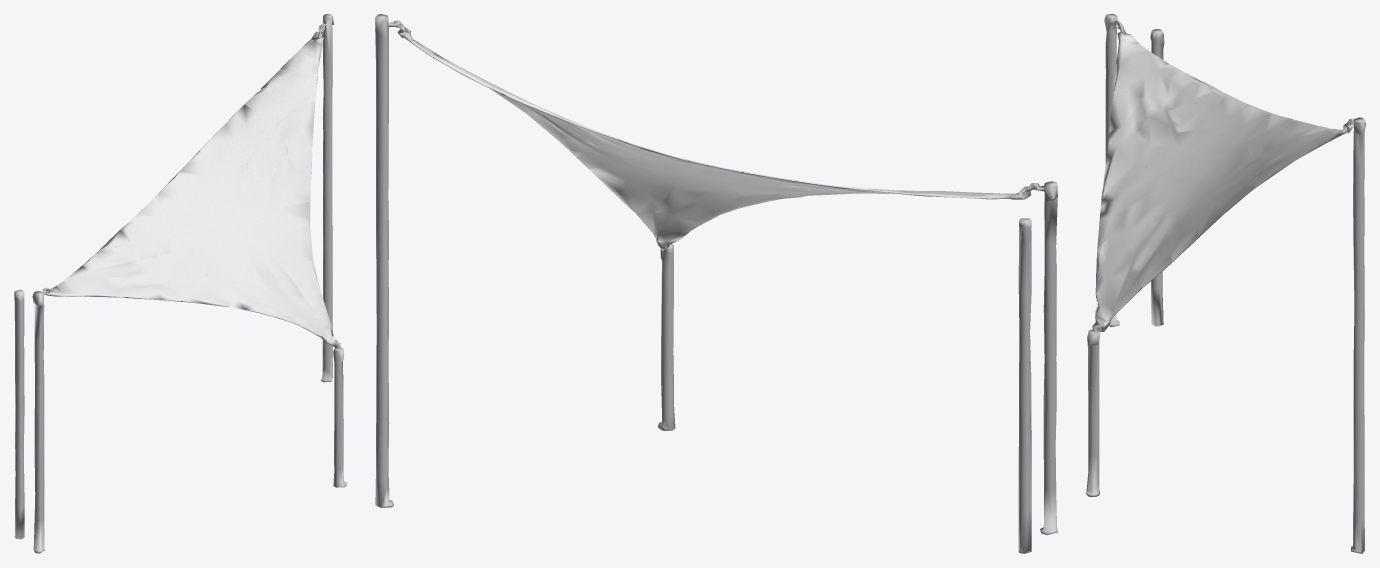
File: sail1_lod1.glb
3 views of the same model, side by side, from view 1: azimuth 30°, elevation 25°; view 2: azimuth 150°, elevation 25°; view 3: azimuth 270°, elevation 25° (orthographic). The views are drawn at different scales.
Visible parts, largest first — view 1: mesh_node; view 2: mesh_node; view 3: mesh_node.
Boxes of the visible parts, x1,y1,x2,y2 form: mesh_node: (14,14,346,553); mesh_node: (375,14,1057,553); mesh_node: (1086,14,1365,553).
Bounding box in the file's own units: 1.9 × 1.64 × 0.9641.
1 material, 1 textured.
